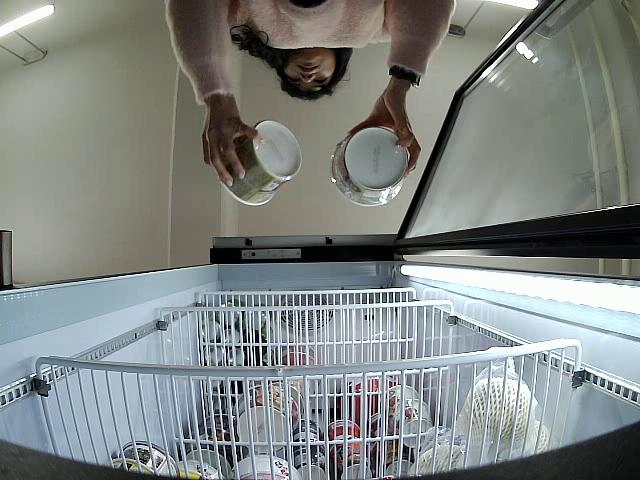00_hand: (348, 89, 421, 177), (201, 109, 265, 189)
03_chapagetti_L: (216, 119, 303, 207), (329, 123, 409, 207)
